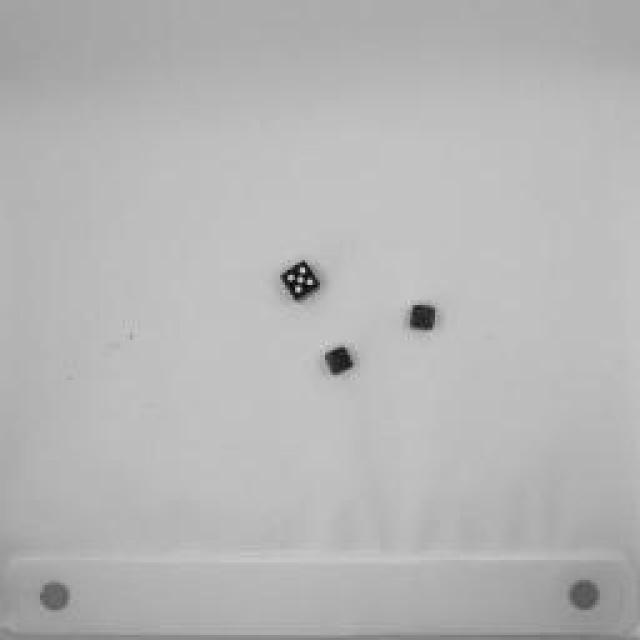dice_3: (324, 345, 356, 380)
dice_5: (280, 261, 320, 304)
dice_6: (412, 304, 436, 331)
